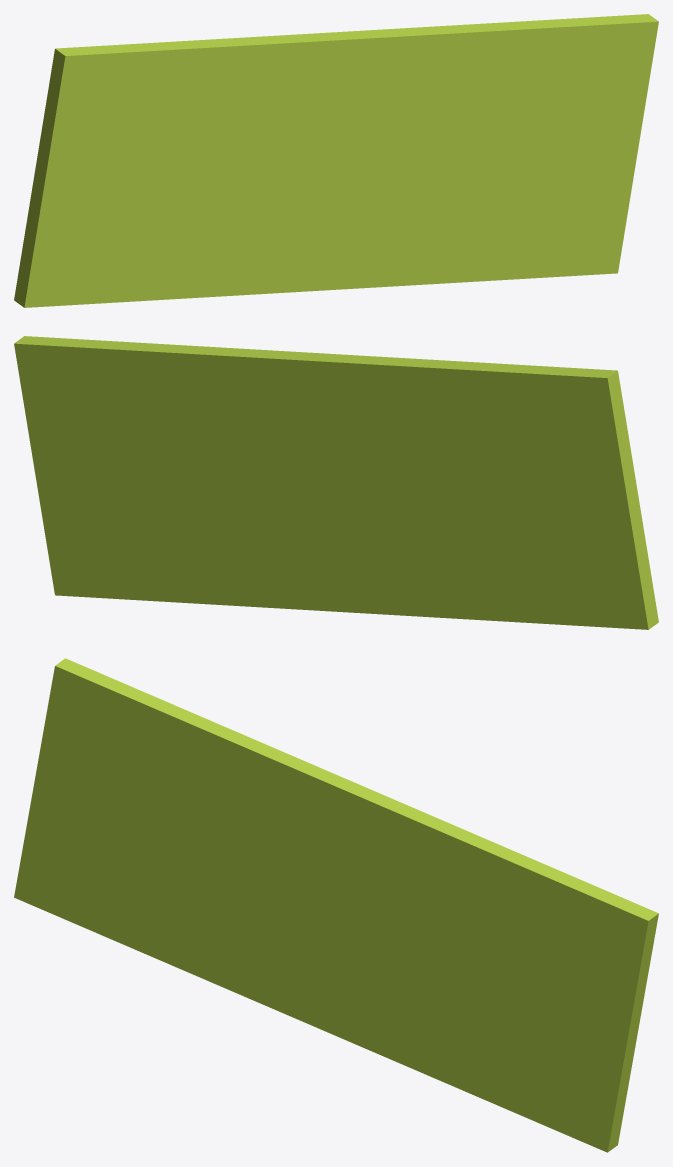
3 renders of one model, top to bottom at view 1: azimuth 30°, elevation 25°; view 2: azimuth 150°, elevation 25°; view 3: azimuth 330°, elevation 25°, orthographic.
Parts seen in each view (by area): view 1: osm-way27917482-F1; view 2: osm-way27917482-F1; view 3: osm-way27917482-F1.
Part boxes in pixels (box(x1,y1,x2,y2)): osm-way27917482-F1: box(14, 14, 658, 307); osm-way27917482-F1: box(14, 336, 658, 629); osm-way27917482-F1: box(14, 658, 658, 1152).
Bounding box in the file's own units: 5.29 × 2.8 × 0.15.
